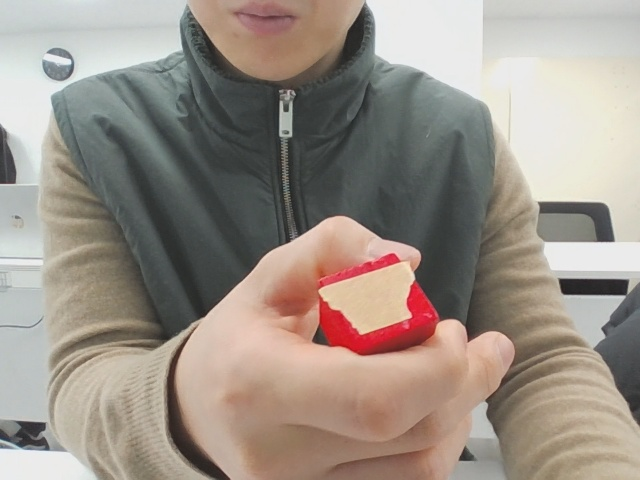error: (296, 255, 451, 360)
